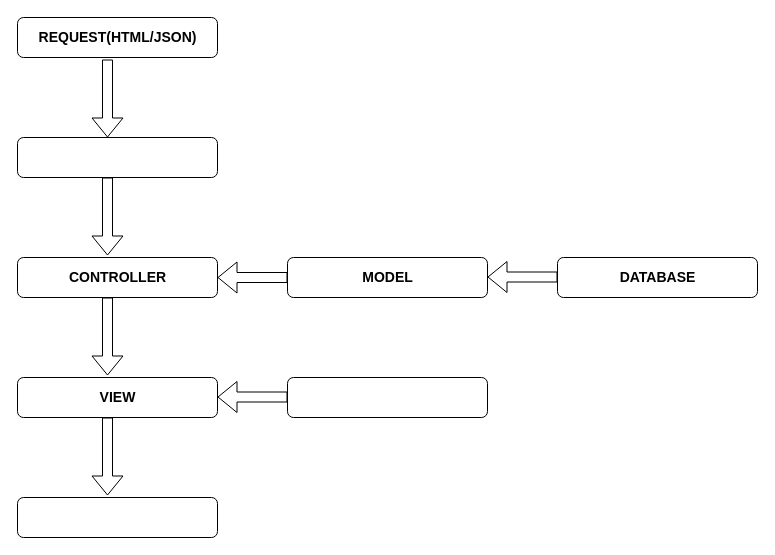
The diagram is 775 pixels wide and 555 high, and some of its shapes have lost their labels. Here are the shapes that lost their labels. From the top down, the centre of each, then its label:
At point 117,157: "ROUTER".
At point 387,397: "TEMPLATE".
At point 117,517: "RESPONSE".
